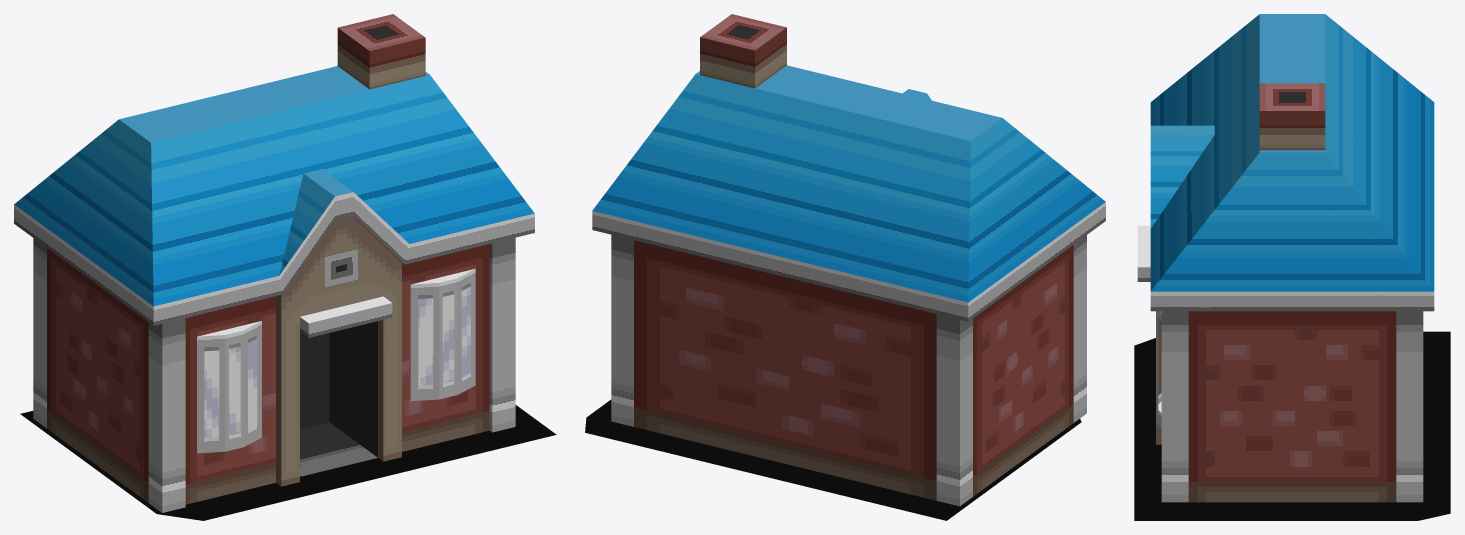
The model's file is house.obj.
The picture shows the model from 3 angles, left to right: view 1: azimuth 30°, elevation 25°; view 2: azimuth 150°, elevation 25°; view 3: azimuth 270°, elevation 25°; orthographic projection. The views are drawn at different scales.
Visible parts, largest first — view 1: polygon1; view 2: polygon1; view 3: polygon1.
Part boxes in pixels (x1,y1,x2,y2): polygon1: (14, 14, 556, 520); polygon1: (585, 14, 1105, 520); polygon1: (1134, 14, 1450, 520).
Size of the model in its own units: 85.04 by 75.89 by 58.
4 materials, 4 textured.
